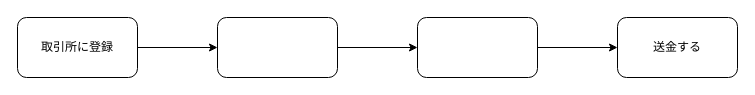
The diagram is 755 pixels wide and 95 high, and some of its shapes have lost their labels. The box of each missing label's shape, as (x1, y1, x2, y2) in pixels:
KYC: (216, 16, 338, 78)
暗号通貨買う: (416, 16, 538, 78)
